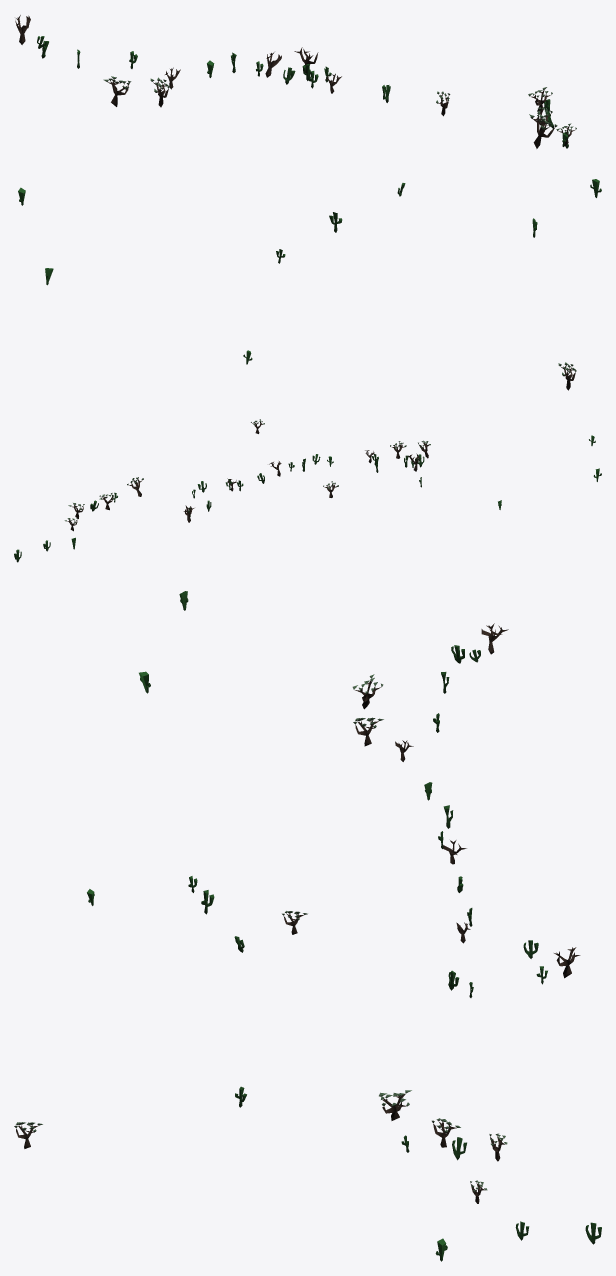
Rendered from c_trees_desert_ramp.fbx.
3 renders of one model, top to bottom at view 1: azimuth 30°, elevation 25°; view 2: azimuth 150°, elevation 25°; view 3: azimuth 270°, elevation 25°, orthographic. The views are drawn at different scales.
Parts seen in each view (by area): view 1: c_trees_desert_ramp; view 2: c_trees_desert_ramp; view 3: c_trees_desert_ramp.
Part boxes in pixels (left/top/right/bottom): c_trees_desert_ramp: left=15, top=15, right=601, bottom=390; c_trees_desert_ramp: left=14, top=419, right=601, bottom=562; c_trees_desert_ramp: left=14, top=591, right=601, bottom=1261.
Size of the model in its own units: 117 by 47.31 by 74.21.
